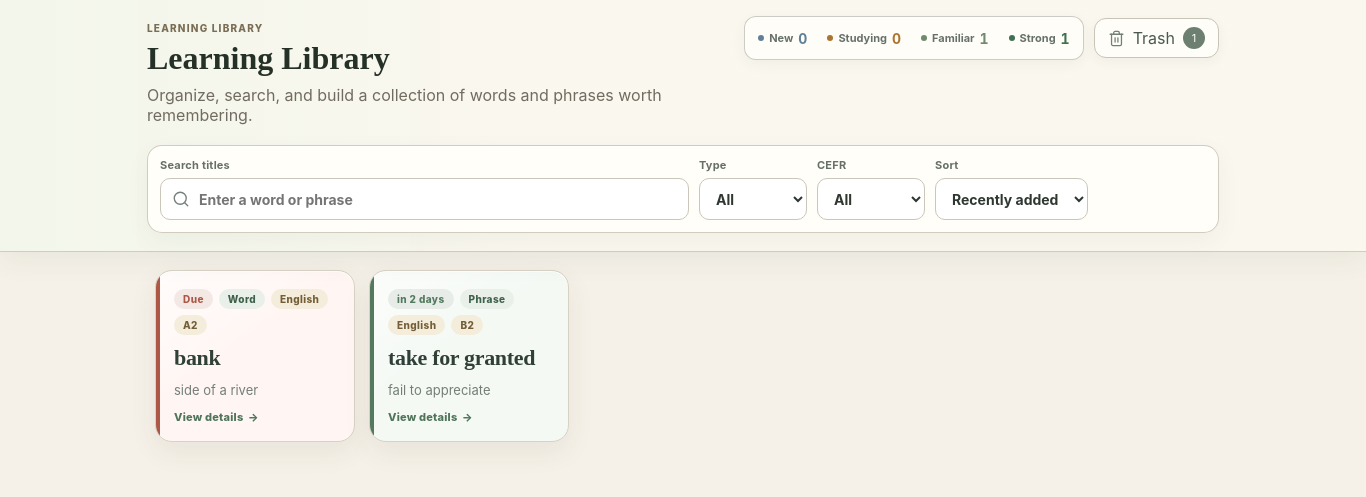
Test: LearningLibraryWorkspace › ignores a stale response after filters start a newer query
This screenshot has width=1366, height=497.
Expected: the button "Due Word English A2 bank side of a river View details →" is shown, x1=155 y1=270 x2=355 y2=442
Select "Words" in the dropdown labelled "Type" at (753, 199), box x1=699 y1=178 x2=807 y2=220
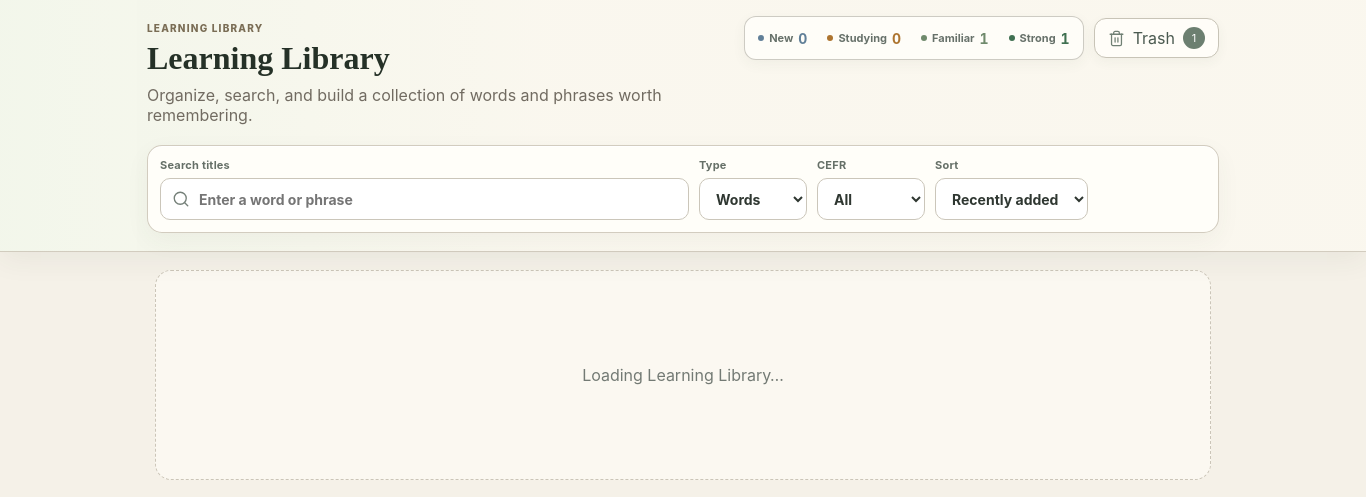
Select "A1" in the dropdown labelled "CEFR" at (871, 199), box x1=817 y1=178 x2=925 y2=220
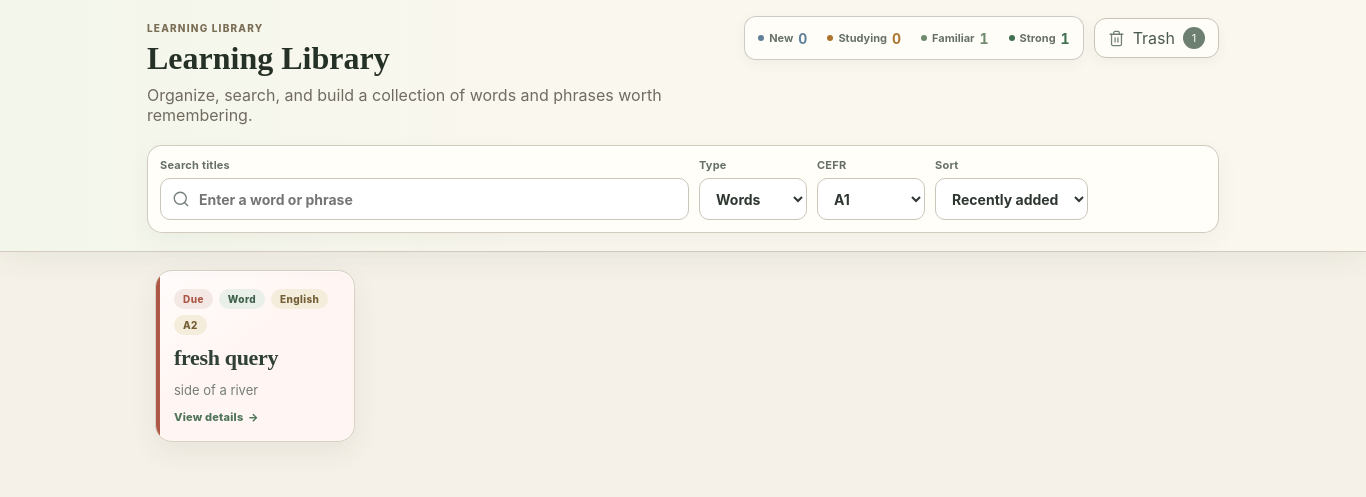
Expected: the button "fresh query" is shown, x1=155 y1=270 x2=355 y2=442
